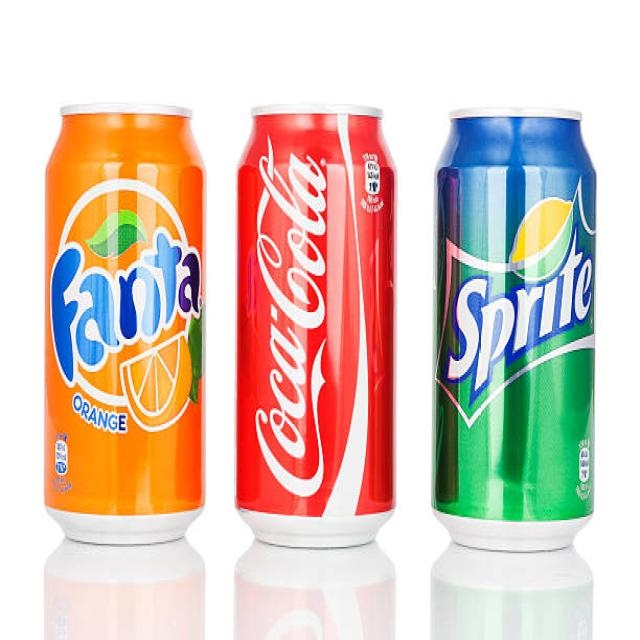soda_can: (233, 91, 423, 563), (24, 84, 211, 551), (432, 103, 613, 565)
